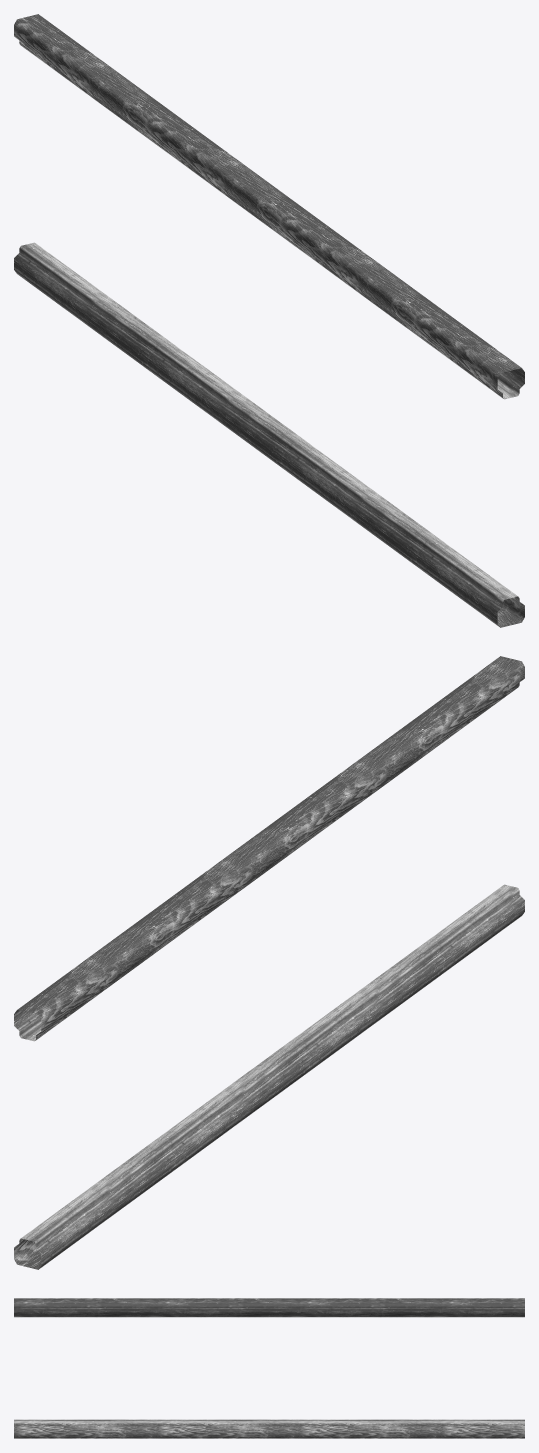
Rendered from SM_Fence_A3_Splines_50.fbx.
3 renders of one model, top to bottom at view 1: azimuth 30°, elevation 25°; view 2: azimuth 150°, elevation 25°; view 3: azimuth 270°, elevation 25°, orthographic. The views are drawn at different scales.
Parts seen in each view (by area): view 1: SM_Fence_A3_Splines_50; view 2: SM_Fence_A3_Splines_50; view 3: SM_Fence_A3_Splines_50.
Boxes of the visible parts, x1=… form: SM_Fence_A3_Splines_50: x1=14, y1=14, x2=524, y2=627; SM_Fence_A3_Splines_50: x1=14, y1=656, x2=524, y2=1269; SM_Fence_A3_Splines_50: x1=14, y1=1298, x2=524, y2=1438.
Size of the model in its own units: 6.56 by 200 by 58.09.
Materials: 1 (1 with a texture image).
